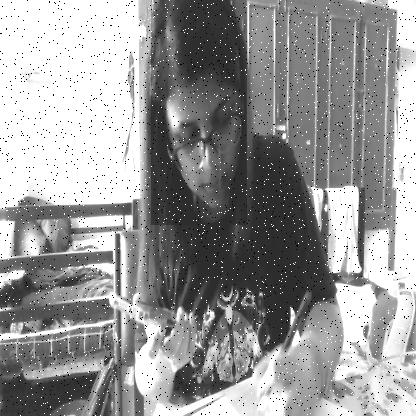Normal: (151, 0, 247, 225)
